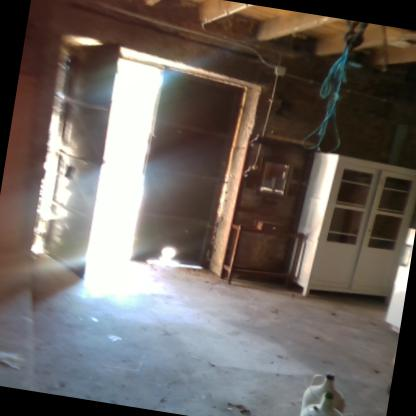semi: (20, 29, 272, 291)
